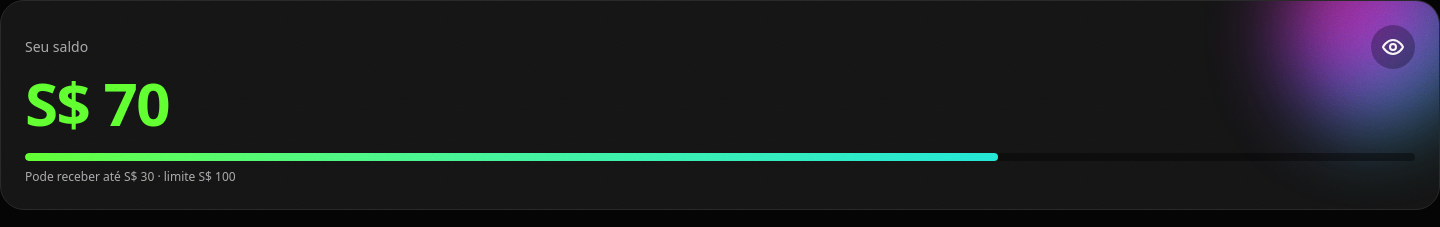
Test: <CartaoSaldo> › permite ocultar o saldo
The image size is (1440, 227).
Click the button named "ocultar saldo". click: (1393, 47)
box: [1371, 25, 1415, 69]
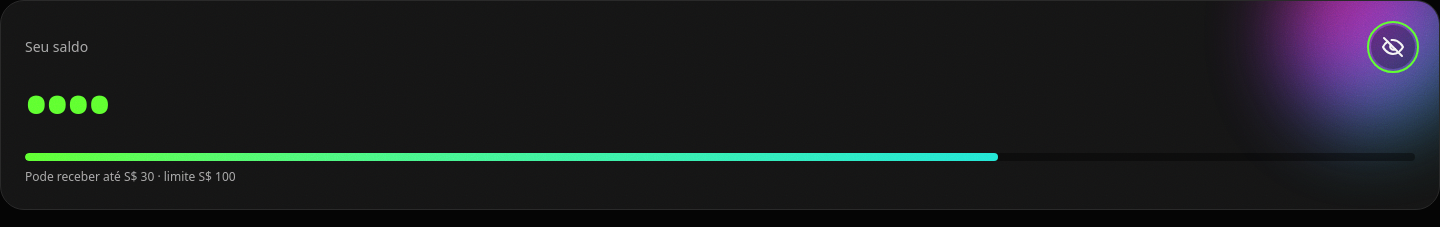
expect the text "S$ 70" is gone: met
expect the button named "mostrar saldo" is shown: met, box [1371, 25, 1415, 69]
